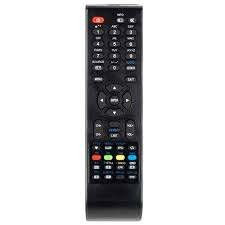remote control: (84, 6, 144, 222)
